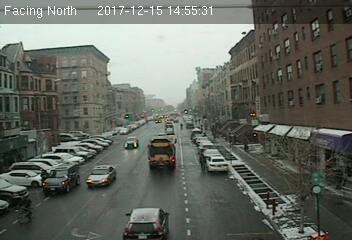bicycle: (15, 192, 35, 224)
car: (118, 206, 173, 239), (40, 165, 79, 193), (84, 164, 116, 186), (205, 155, 229, 172), (124, 137, 139, 148)
truck: (148, 135, 177, 169)
